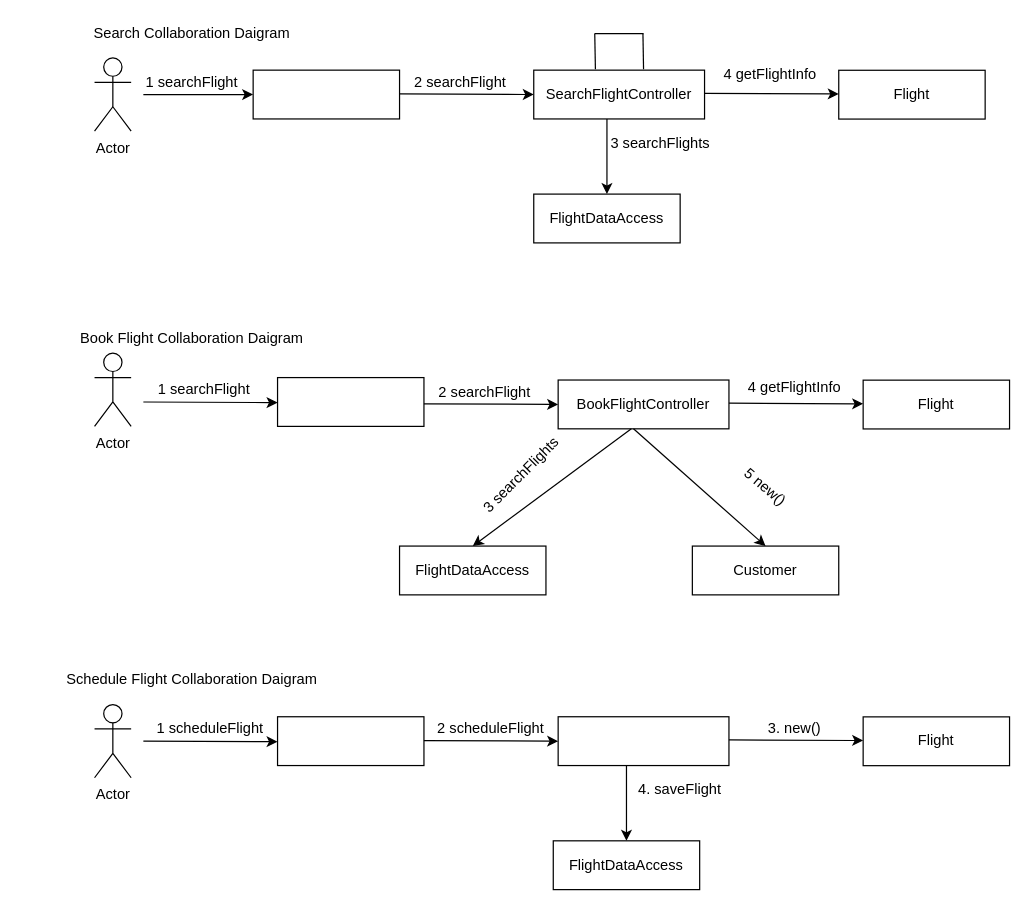
Image size: 1031x911. Some labels were removed from this diagram. The shapes that lost their labels are listed below. From the top down, each one's box as (x1, y1, x2, y2) in pixels, then its label:
(252, 69, 400, 119): SearchFlightForm
(276, 376, 424, 426): BookFlightForm
(276, 716, 424, 766): SceduleFlightForm
(557, 716, 729, 766): ScheduleFlightController
